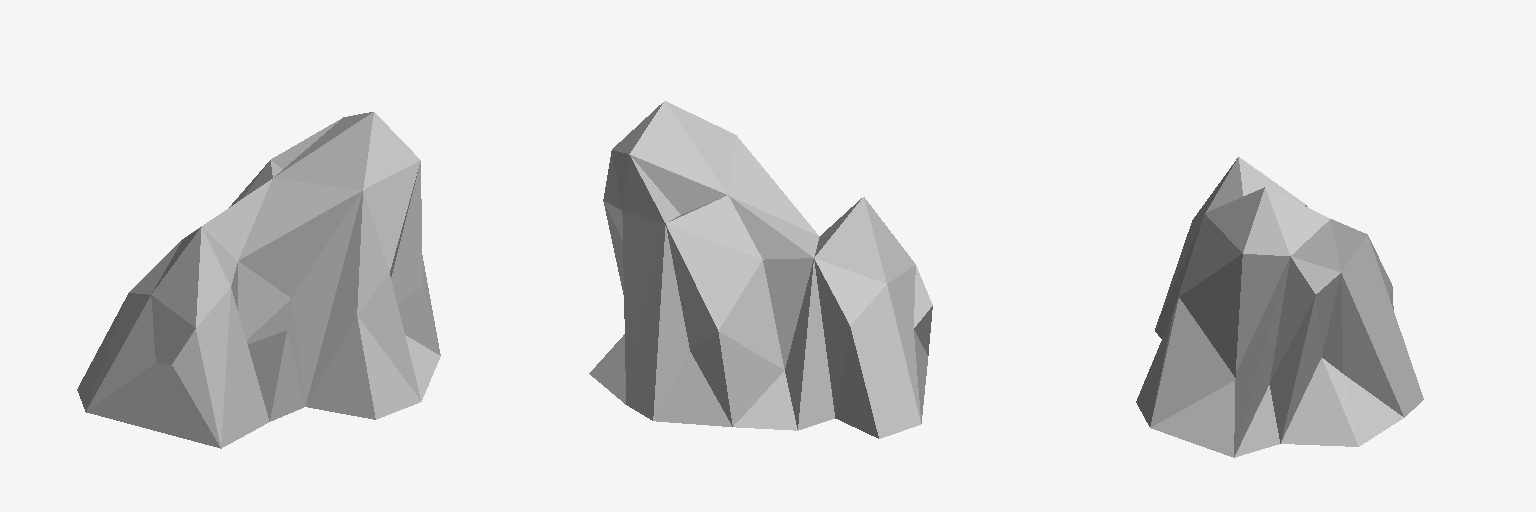
File: rock_005_LOD3.obj
3 renders of one model, left to right at view 1: azimuth 30°, elevation 25°; view 2: azimuth 150°, elevation 25°; view 3: azimuth 270°, elevation 25°, orthographic.
Visible parts, largest first — view 1: rock_005_LOD3 rock_005; view 2: rock_005_LOD3 rock_005; view 3: rock_005_LOD3 rock_005.
Part boxes in pixels (x1,y1,x2,y2): rock_005_LOD3 rock_005: (77, 112, 440, 448); rock_005_LOD3 rock_005: (589, 101, 932, 438); rock_005_LOD3 rock_005: (1136, 157, 1423, 457).
Size of the model in its own units: 1271 by 923 by 980.